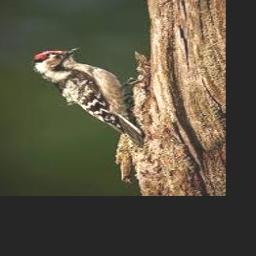Woodpecker: (31, 47, 143, 146)
